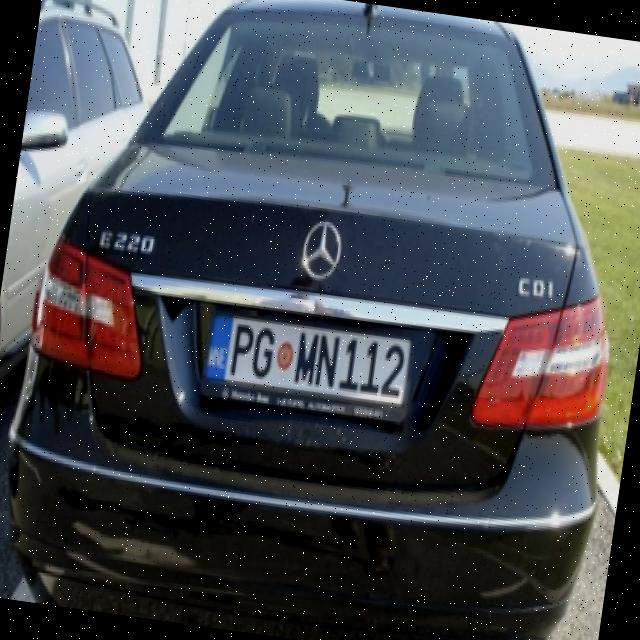Autre: (198, 299, 416, 423)
